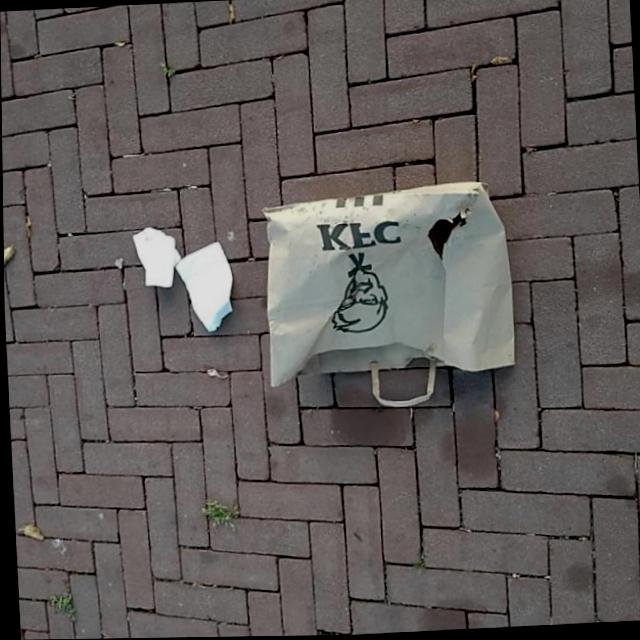Paper: (258, 179, 518, 416), (173, 239, 235, 334), (132, 225, 181, 289)
